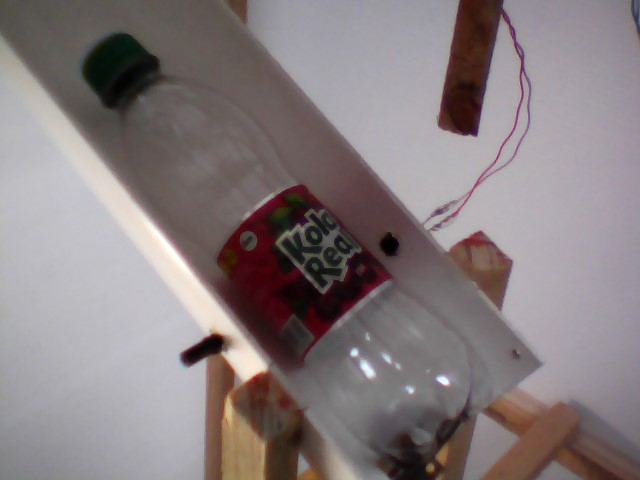plastico: (74, 18, 506, 480)
